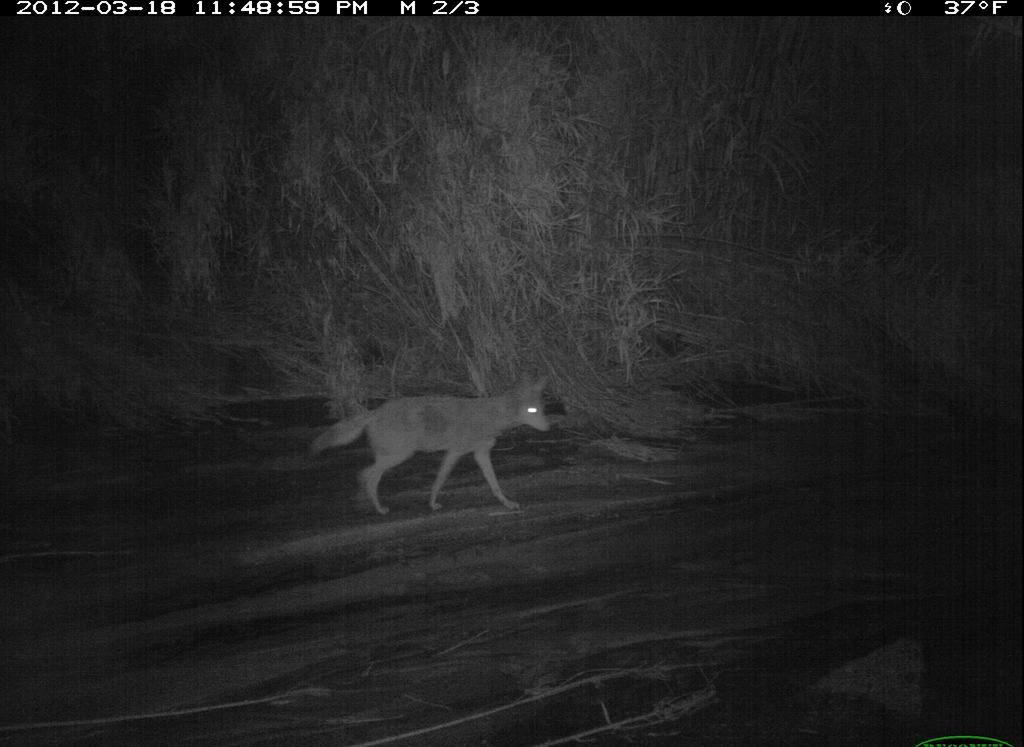coyote: (300, 364, 560, 523)
